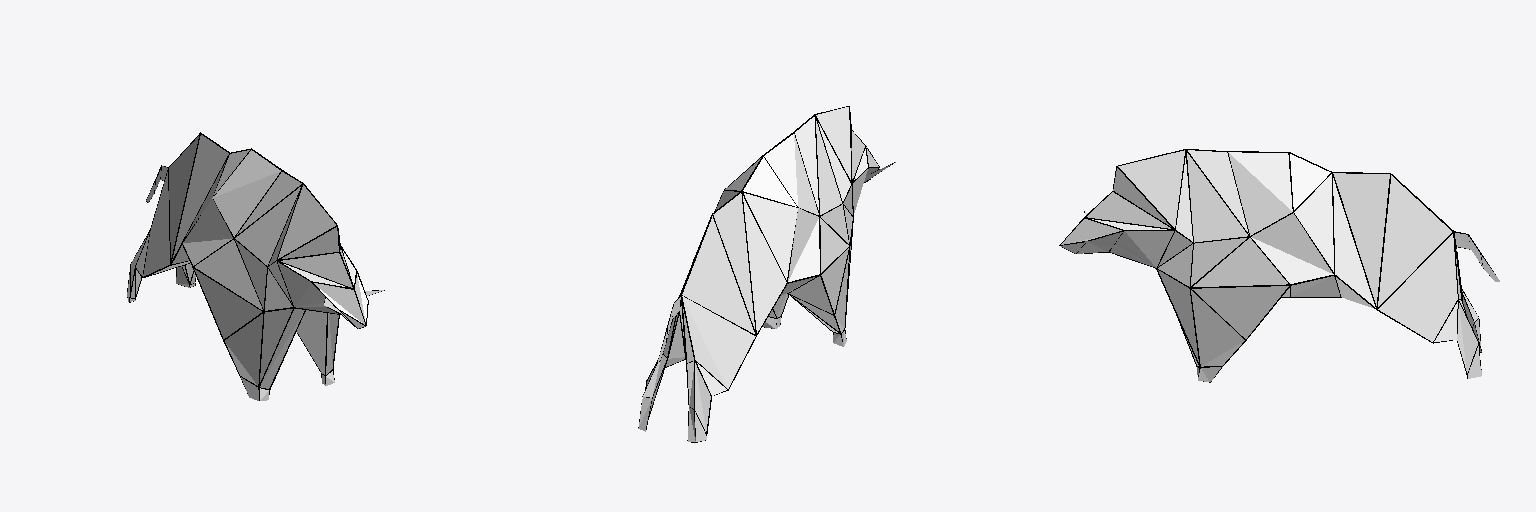
The model's file is boar.obj.
The picture shows the model from 3 angles: view 1: azimuth 30°, elevation 25°; view 2: azimuth 150°, elevation 25°; view 3: azimuth 270°, elevation 25°; orthographic projection.
Parts seen in each view (by area): view 1: ポリゴンリダクション.1; view 2: ポリゴンリダクション.1; view 3: ポリゴンリダクション.1.
Boxes of the visible parts, <box> form: ポリゴンリダクション.1: <box>127,132,384,400</box>; ポリゴンリダクション.1: <box>638,106,895,442</box>; ポリゴンリダクション.1: <box>1059,149,1499,382</box>.
Size of the model in its own units: 8.01 by 14.08 by 26.21.